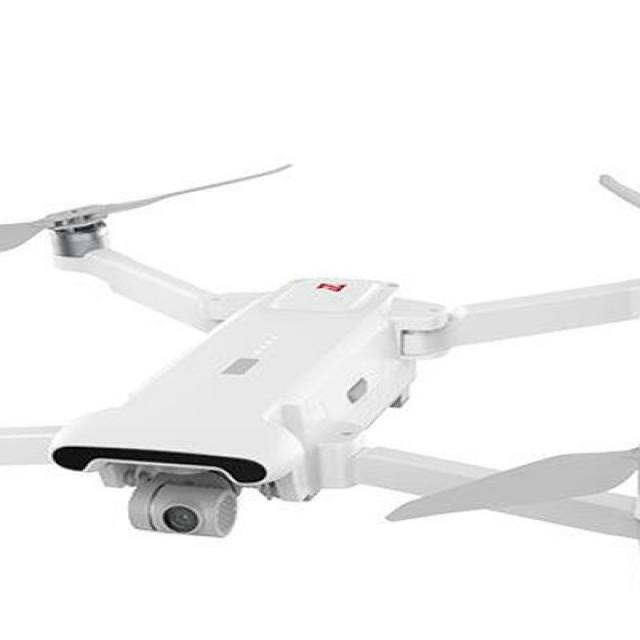drone: (0, 187, 640, 602)
